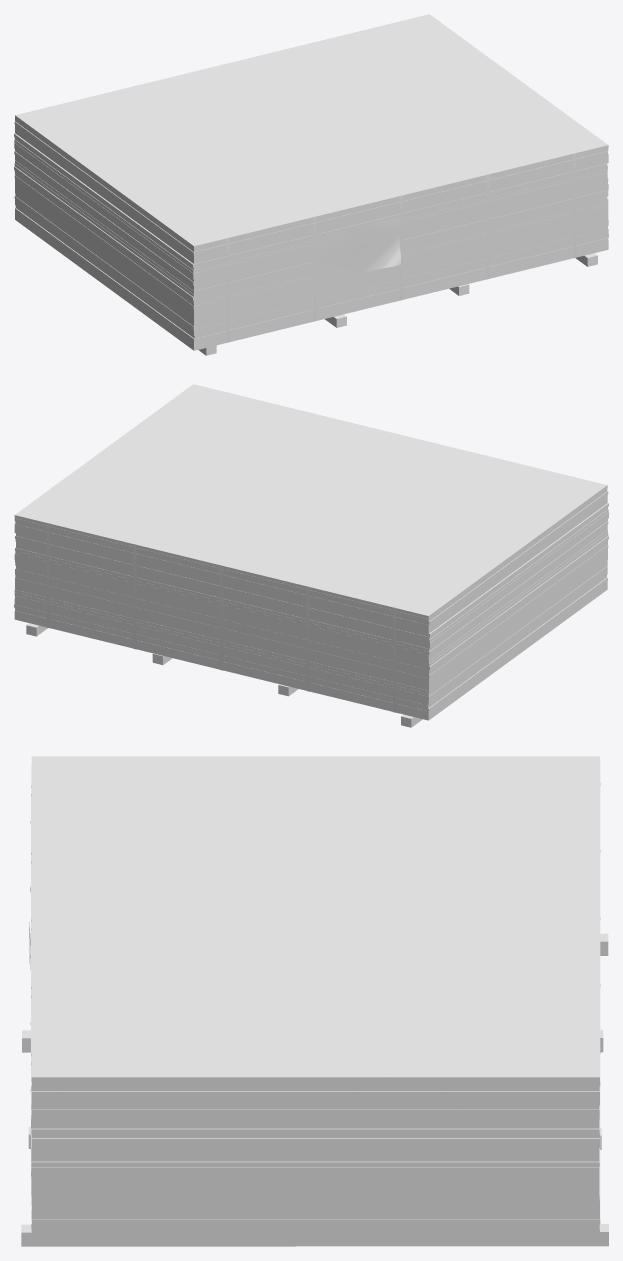
File: PalletPlywood.gltf
3 renders of one model, top to bottom at view 1: azimuth 30°, elevation 25°; view 2: azimuth 150°, elevation 25°; view 3: azimuth 270°, elevation 25°, orthographic. The views are drawn at different scales.
Parts seen in each view (by area): view 1: PalletPlywoodNew_GameReady; view 2: PalletPlywoodNew_GameReady; view 3: PalletPlywoodNew_GameReady.
Boxes of the visible parts, box(x1,y1,x2,y2) form: PalletPlywoodNew_GameReady: box(14, 14, 608, 355); PalletPlywoodNew_GameReady: box(14, 384, 608, 727); PalletPlywoodNew_GameReady: box(21, 756, 608, 1246).
Bounding box in the file's own units: 201 × 52.42 × 157.
